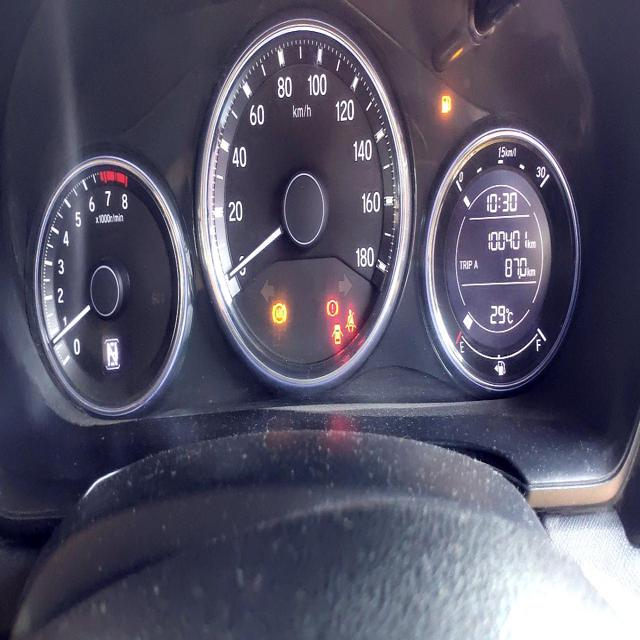odometer: (485, 226, 528, 249)
